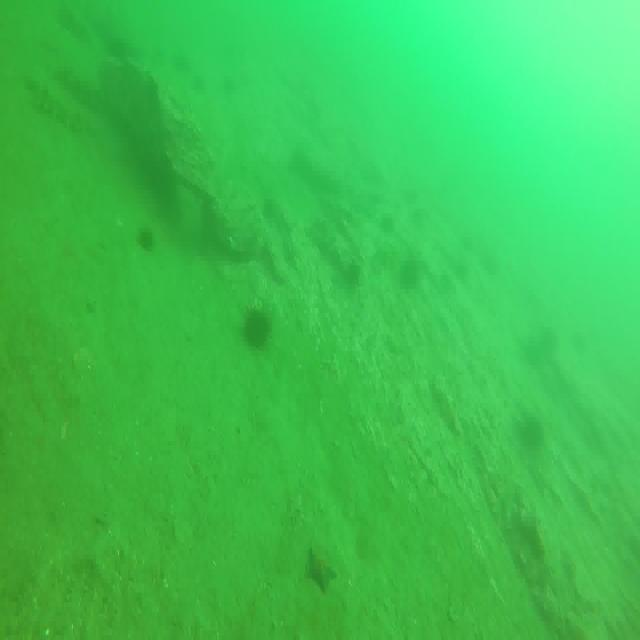echinus: (243, 308, 270, 350), (520, 411, 544, 450), (398, 256, 422, 294), (135, 225, 155, 251)
starfish: (305, 545, 337, 593)
